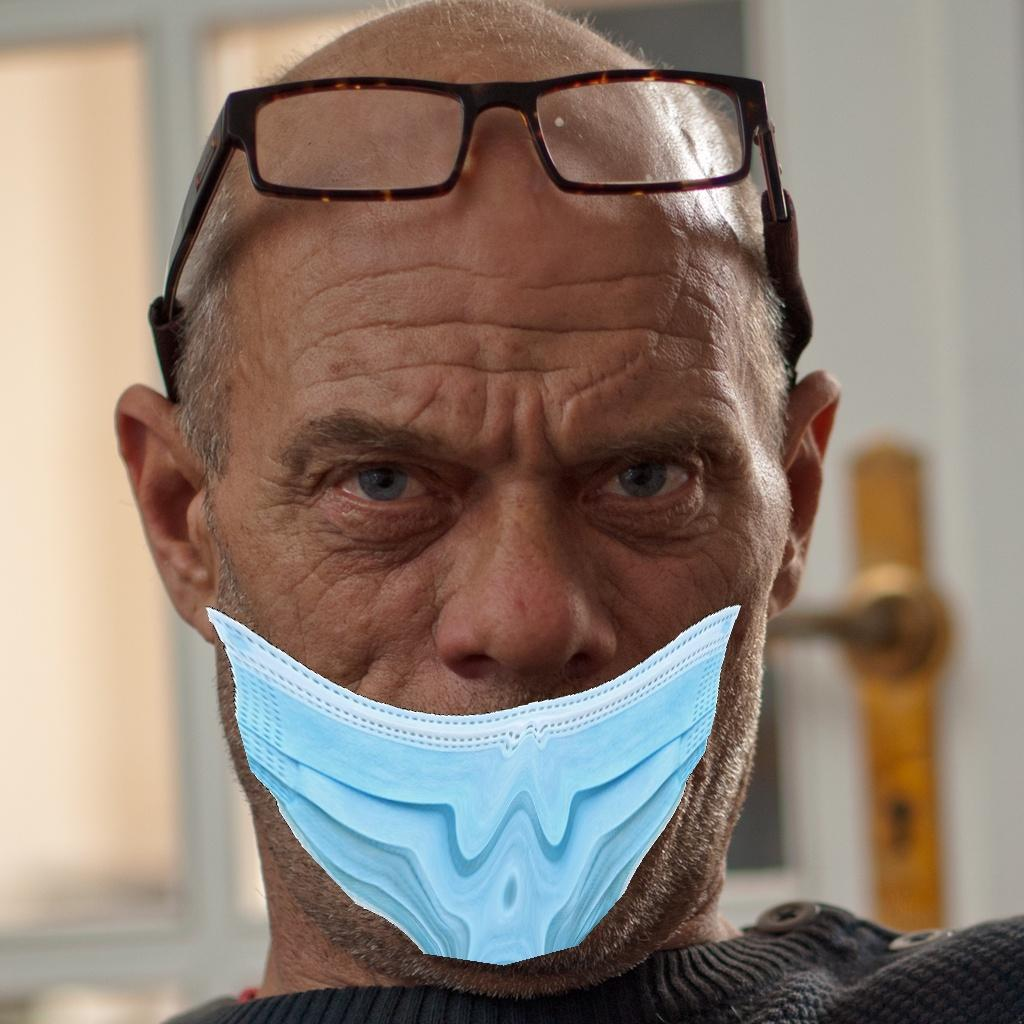Máscara Incorreta: (209, 268, 758, 939)
